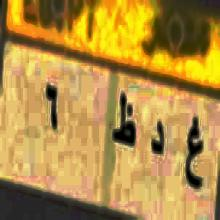6: (44, 79, 60, 138)
Thaa: (111, 84, 136, 150)
daal: (147, 116, 166, 161)
ghayn: (183, 111, 206, 198)
